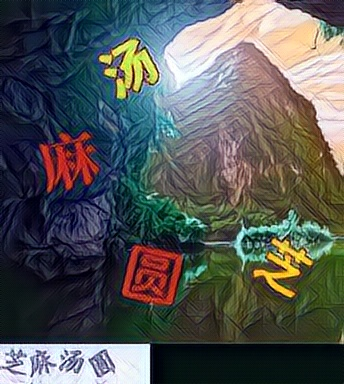C2E9: (37, 129, 99, 193)
CCC0: (97, 36, 159, 100)
D4B2: (120, 242, 182, 306)
D6A5: (252, 233, 314, 297)
